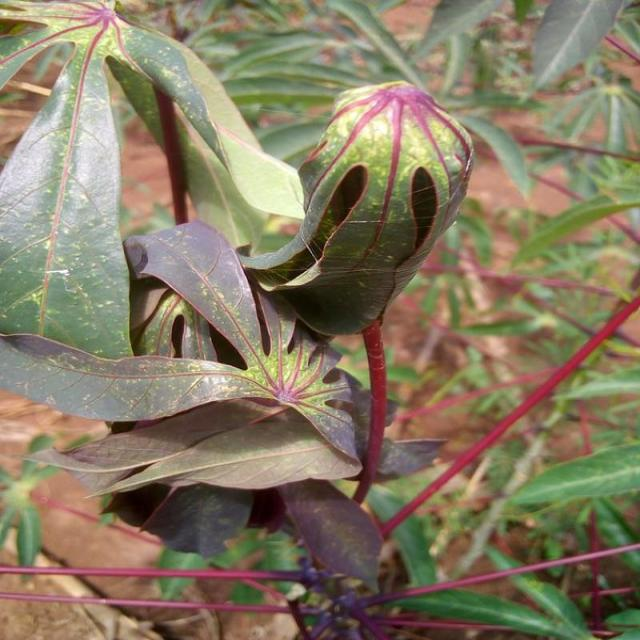cassava leaf: (13, 219, 365, 498), (240, 79, 474, 337)
